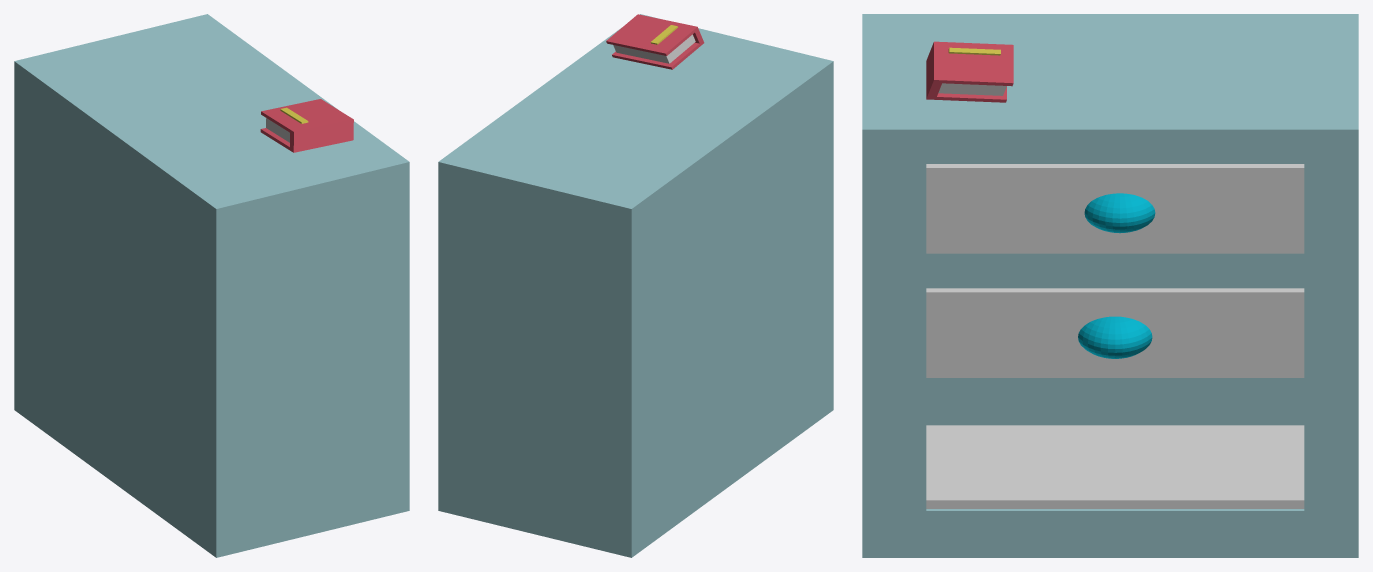
File: Super Kup.glb
3 views of the same model, side by side, from view 1: azimuth 30°, elevation 25°; view 2: azimuth 150°, elevation 25°; view 3: azimuth 270°, elevation 25° (orthographic). The views are drawn at different scales.
Parts seen in each view (by area): view 1: Mesh_Mesh_head_geo.001_lambert2SG.001; view 2: Mesh_Mesh_head_geo.001_lambert2SG.001; view 3: Mesh_Mesh_head_geo.001_lambert2SG.001.
Boxes of the visible parts, box(x1,y1,x2,y2) form: Mesh_Mesh_head_geo.001_lambert2SG.001: box(14, 14, 409, 557); Mesh_Mesh_head_geo.001_lambert2SG.001: box(438, 14, 833, 557); Mesh_Mesh_head_geo.001_lambert2SG.001: box(862, 14, 1358, 557).
Size of the model in its own units: 66 by 109 by 105.
